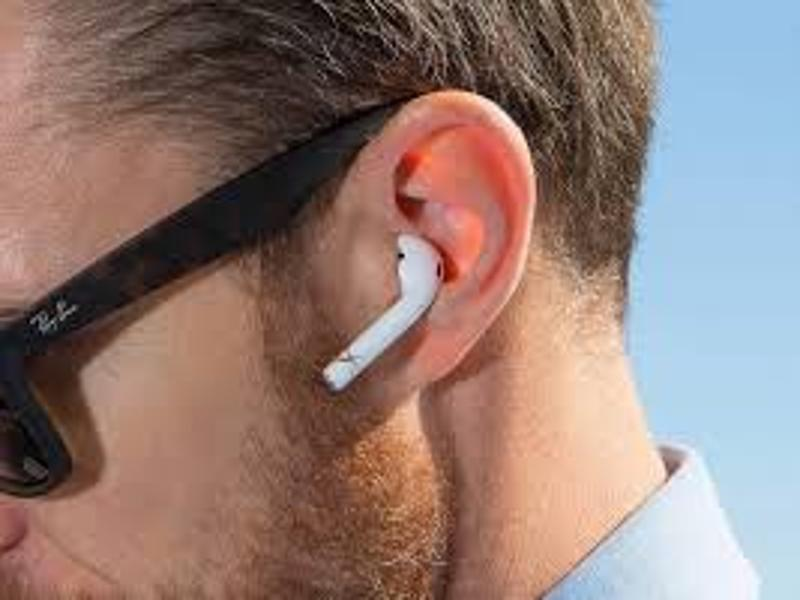headphone: (319, 230, 448, 393)
